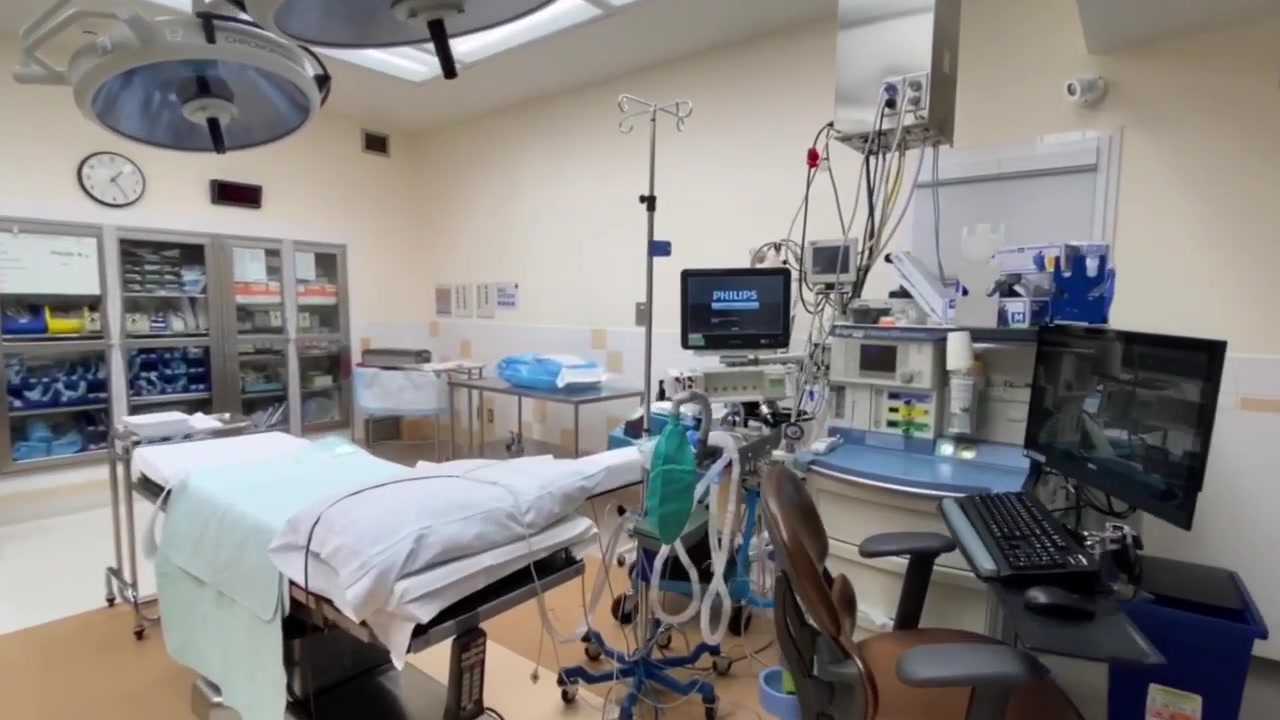bedside_monitor: (682, 266, 794, 350), (806, 242, 858, 282)
breathing_tube: (647, 389, 766, 640)
cabinet: (1, 216, 352, 515)
chair: (765, 458, 1082, 720)
computer: (1022, 319, 1228, 529)
iv_pole: (620, 96, 692, 432)
keyboard: (938, 489, 1100, 579)
medical_drawer: (791, 439, 1033, 637)
mouse: (1024, 585, 1096, 626)
operating_bed: (130, 432, 607, 716)
surgical_light: (72, 13, 333, 157), (244, 1, 559, 78)
utility_cart: (101, 410, 255, 643), (448, 376, 641, 466), (432, 370, 487, 472)
waste_bin: (1109, 554, 1267, 720)
